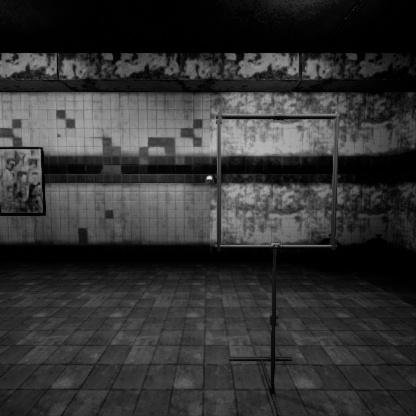gate: (217, 165, 350, 302)
